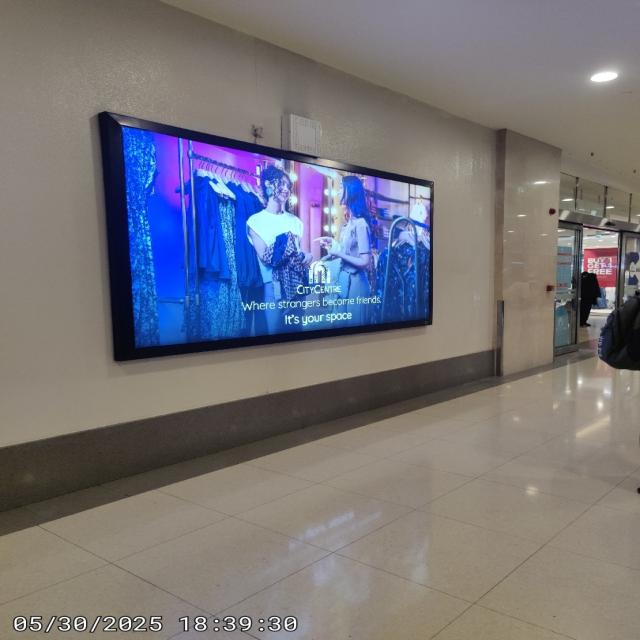digital-board-medium: (103, 114, 432, 366)
